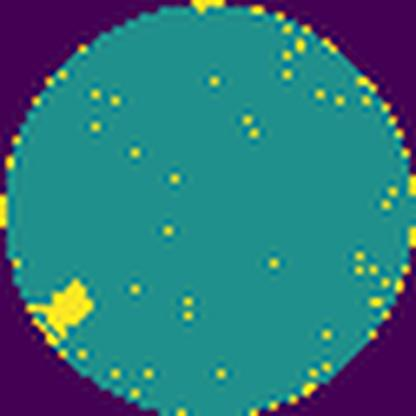Loc: (39, 276, 96, 330)
